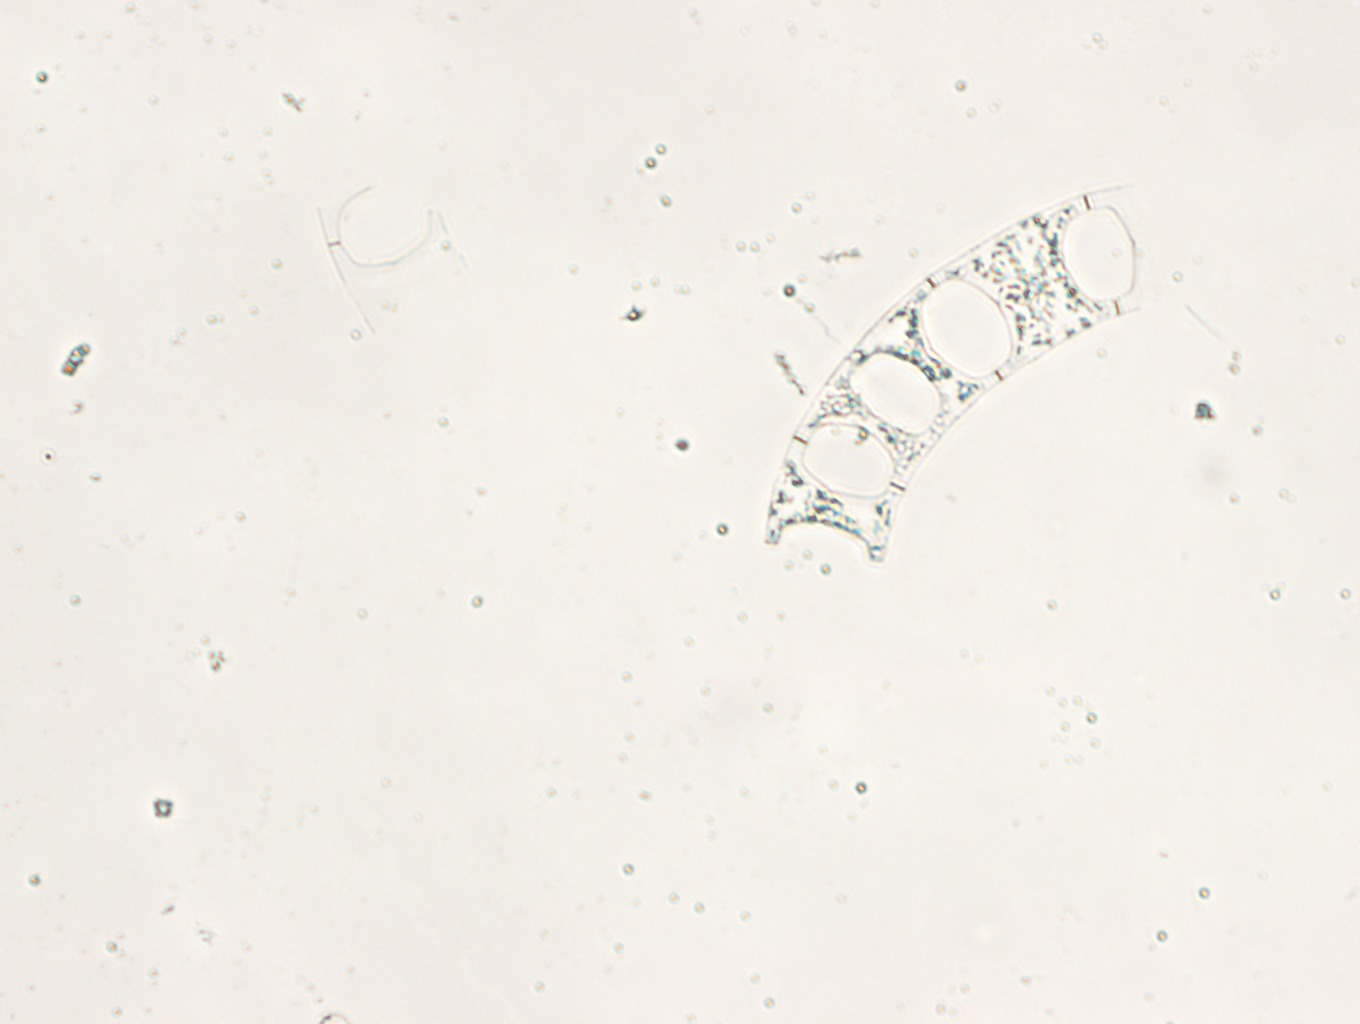eucampia: (760, 185, 1141, 561)
